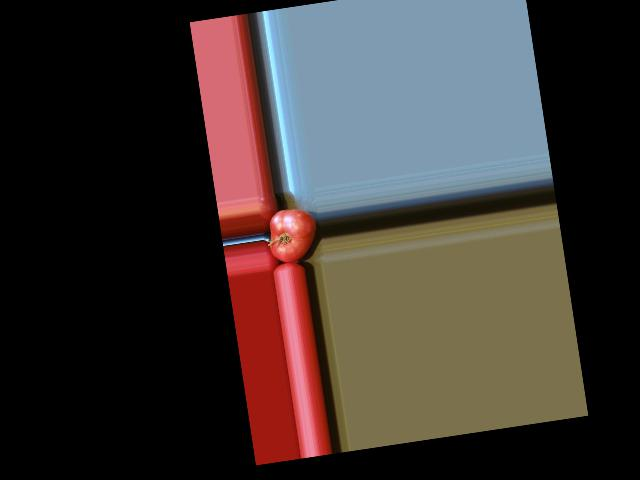tomato: (265, 205, 321, 264)
